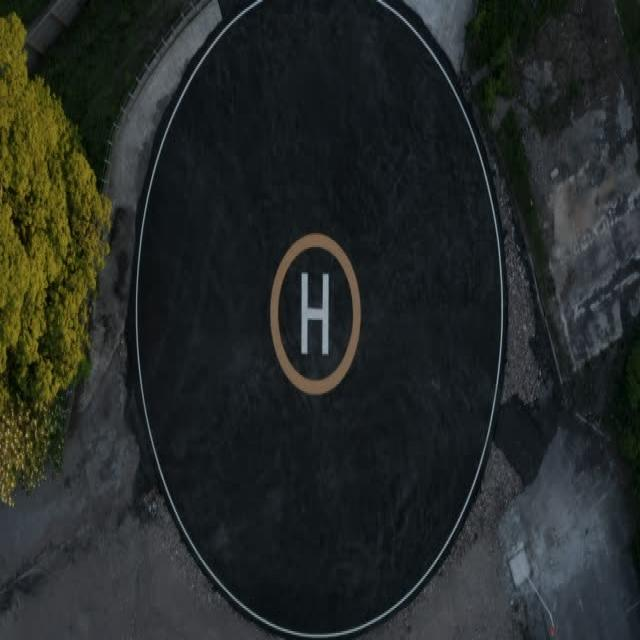helipad: (264, 226, 363, 398)
